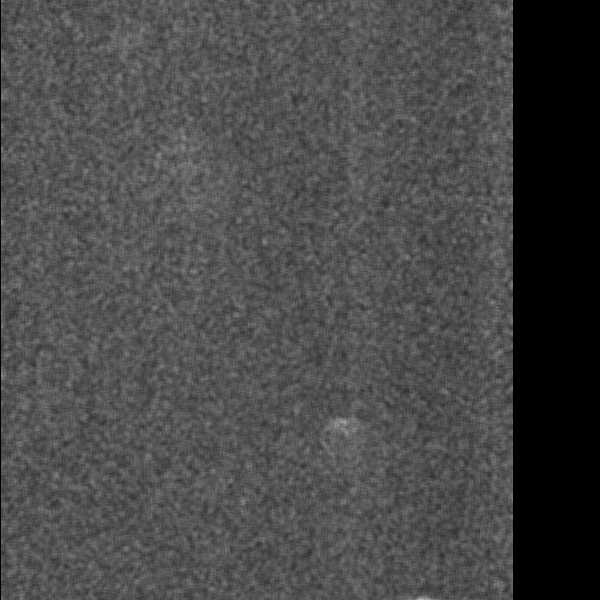spark: (376, 542, 415, 579)
